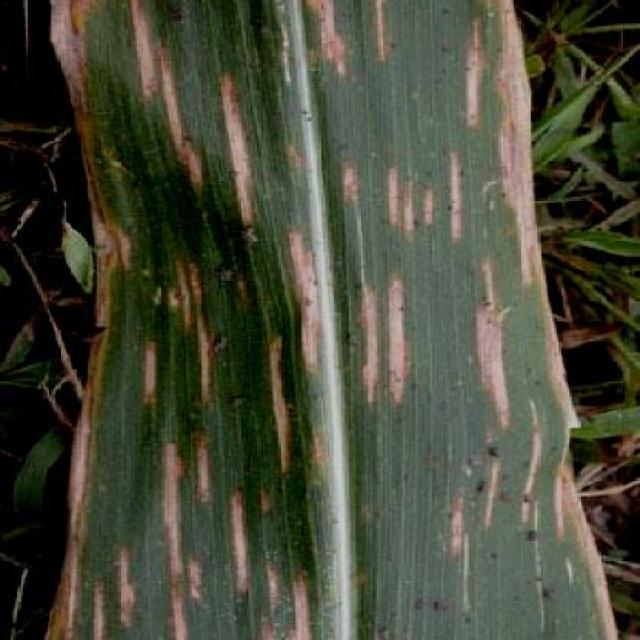Corn_Grey_Leaf_Spot: (37, 0, 594, 640)
